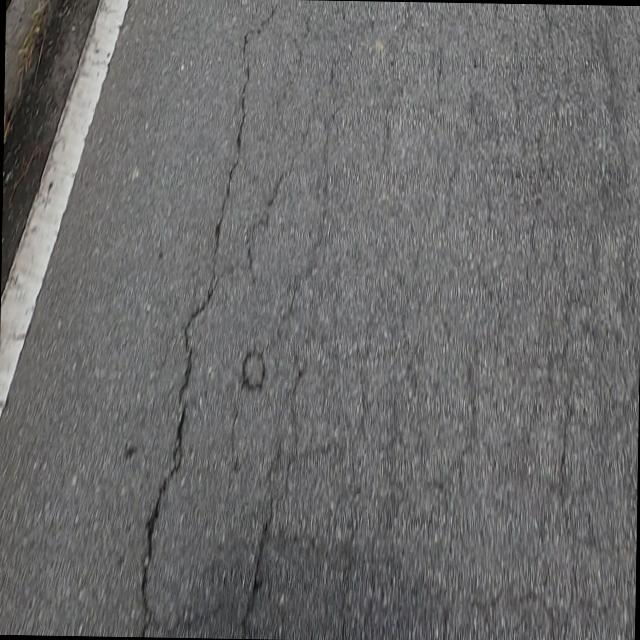Retak-Buaya: (241, 2, 639, 639)
Retak-Memanjang: (139, 1, 284, 623)
